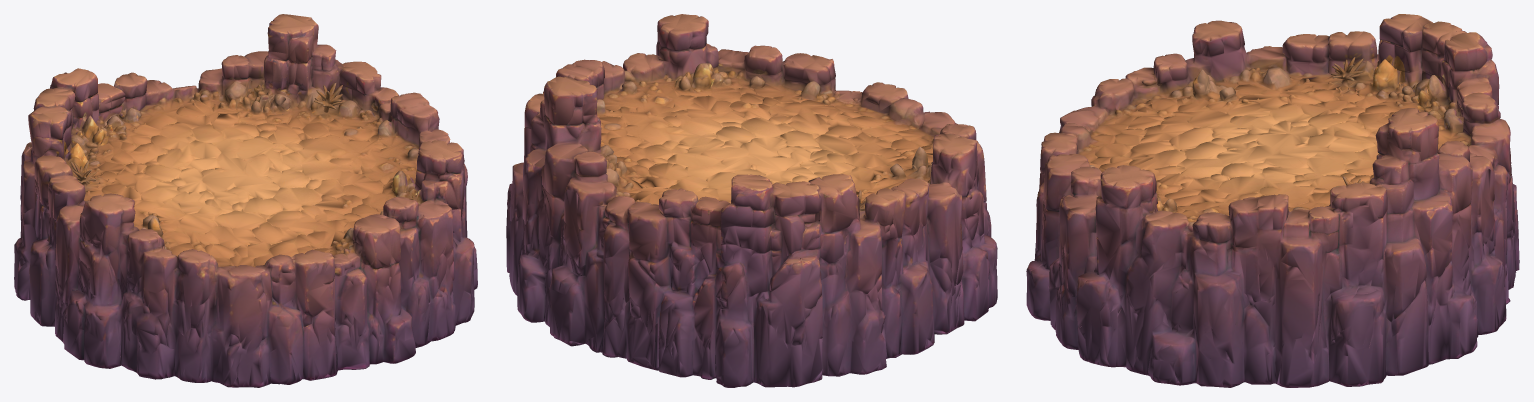
Rendered from plataforma_circular.glb.
The picture shows the model from 3 angles, left to right: view 1: azimuth 30°, elevation 25°; view 2: azimuth 150°, elevation 25°; view 3: azimuth 270°, elevation 25°; orthographic projection. The views are drawn at different scales.
Visible parts, largest first — view 1: plataforma_circular; view 2: plataforma_circular; view 3: plataforma_circular.
Boxes of the visible parts, <box> form: plataforma_circular: <box>14,14,477,387</box>; plataforma_circular: <box>506,14,997,387</box>; plataforma_circular: <box>1026,14,1519,387</box>.
Size of what is drawn, in the model's own units: 6 by 2.99 by 5.93.
Materials: 1 (1 with a texture image).
